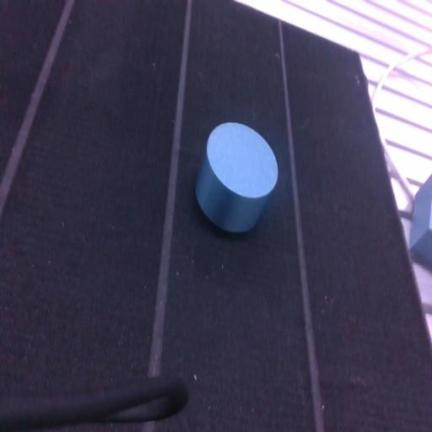cylinder: (196, 122, 278, 232)
